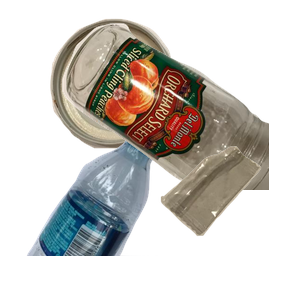glass: (60, 21, 300, 201)
metal: (47, 16, 214, 157)
plastic: (24, 120, 182, 300)
trash: (158, 144, 300, 300)
